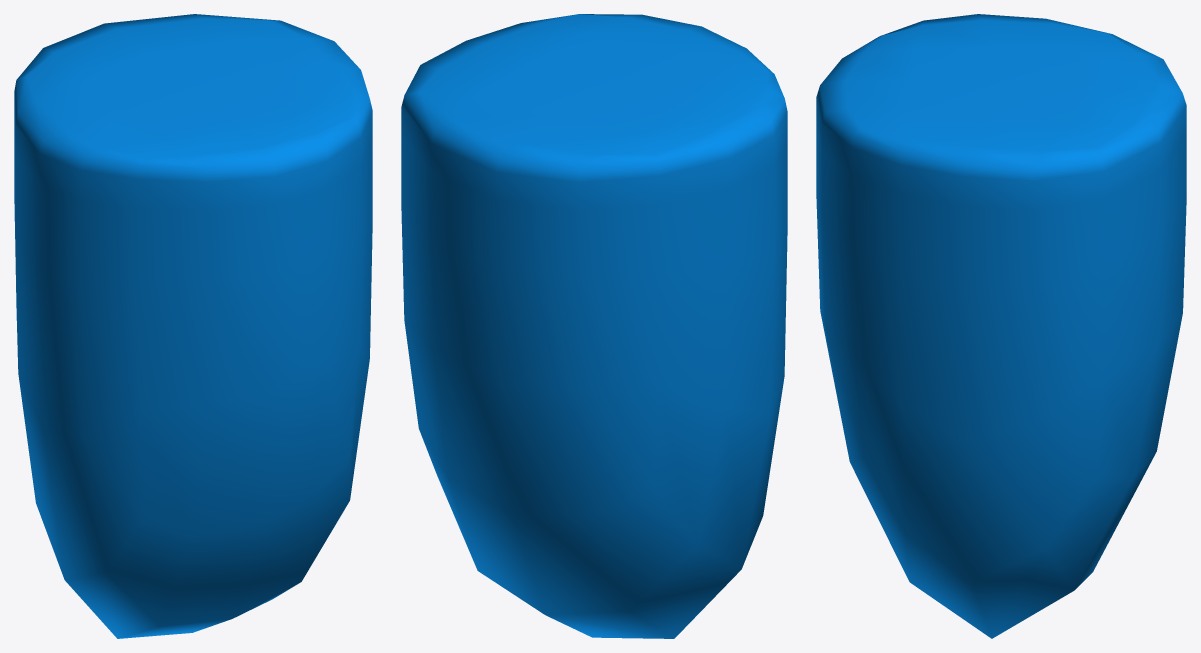
File: Small Island Layer.fbx
The picture shows the model from 3 angles, left to right: view 1: azimuth 30°, elevation 25°; view 2: azimuth 150°, elevation 25°; view 3: azimuth 270°, elevation 25°; orthographic projection. The views are drawn at different scales.
Parts seen in each view (by area): view 1: Small Island Layer; view 2: Small Island Layer; view 3: Small Island Layer.
Part boxes in pixels (x1=…): Small Island Layer: x1=14, y1=14, x2=372, y2=638; Small Island Layer: x1=401, y1=14, x2=787, y2=638; Small Island Layer: x1=816, y1=14, x2=1186, y2=638.
Bounding box in the file's own units: 91.54 × 147 × 91.67.
